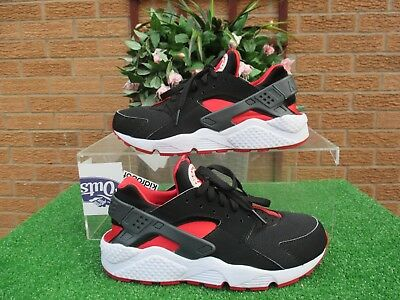Air Huarache Bred: (95, 157, 331, 297), (107, 42, 323, 155)
